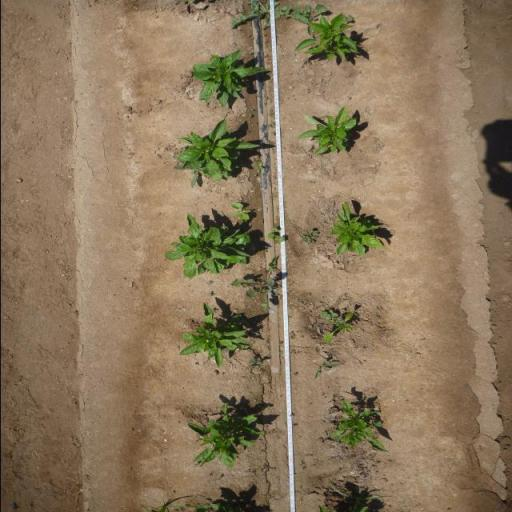plant: (184, 403, 264, 469), (163, 222, 251, 278), (190, 54, 268, 108), (179, 118, 252, 175), (177, 310, 251, 366), (292, 12, 362, 63), (328, 398, 391, 454), (329, 200, 388, 258), (294, 106, 358, 156), (322, 311, 356, 346)
weed: (230, 260, 282, 313), (229, 0, 304, 30), (325, 478, 395, 508), (290, 3, 328, 36), (313, 360, 340, 381), (229, 202, 251, 223), (296, 229, 320, 245), (266, 226, 284, 244), (246, 356, 264, 372), (317, 309, 338, 320), (250, 163, 263, 173), (342, 13, 353, 23), (252, 155, 262, 165), (288, 349, 302, 355), (288, 330, 296, 340), (259, 404, 272, 410), (258, 248, 268, 254), (267, 110, 274, 118), (291, 422, 299, 428), (248, 34, 254, 41), (257, 218, 263, 225), (205, 280, 212, 286), (288, 412, 296, 417), (262, 32, 268, 38), (206, 292, 212, 298), (262, 54, 269, 59), (265, 123, 272, 128), (300, 466, 307, 471), (216, 476, 222, 481), (252, 94, 259, 98), (297, 462, 304, 466), (264, 96, 270, 100), (246, 114, 252, 118), (290, 372, 296, 376), (270, 132, 275, 136), (324, 302, 329, 306), (278, 351, 282, 356), (246, 51, 252, 54), (346, 97, 352, 100), (278, 341, 282, 345), (272, 121, 274, 126)
